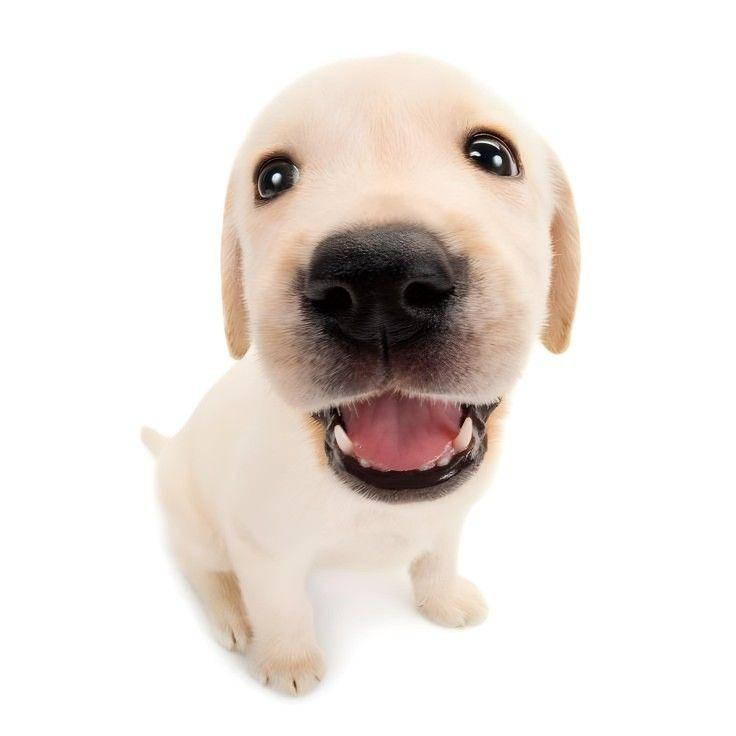puppy-dog: (137, 52, 582, 696)
